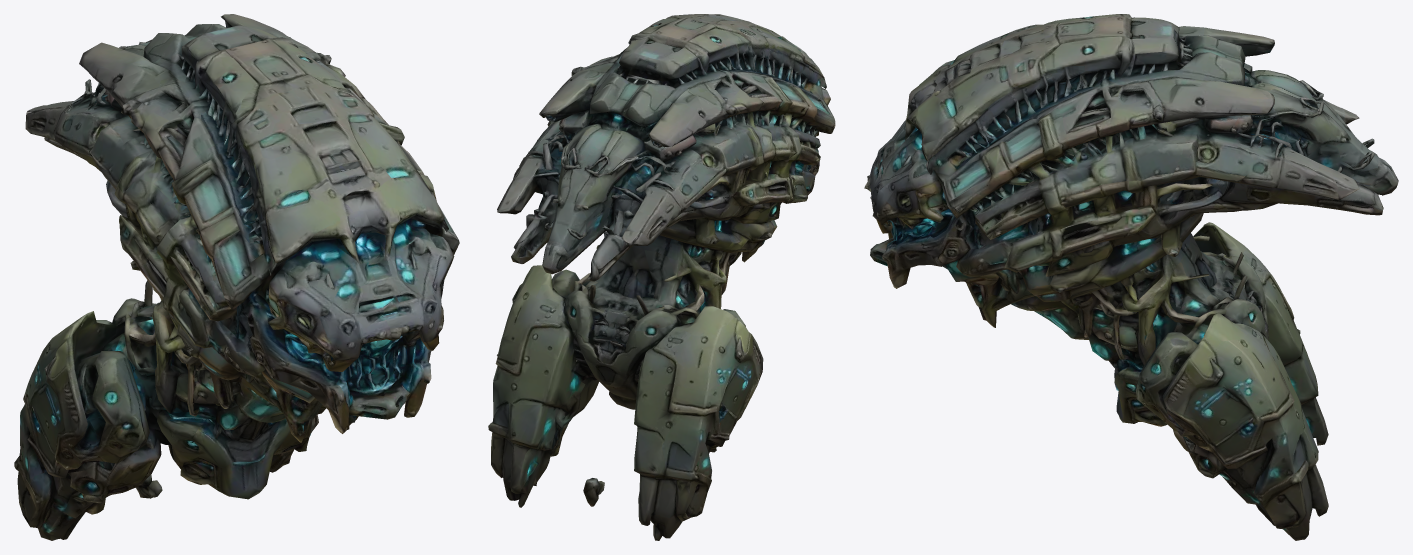
Rendered from enemy_wraith.glb.
3 renders of one model, left to right at view 1: azimuth 30°, elevation 25°; view 2: azimuth 150°, elevation 25°; view 3: azimuth 270°, elevation 25°, orthographic. The views are drawn at different scales.
Parts seen in each view (by area): view 1: tripo_node_50b20c71-5a1c-4049-9996-50485dd0d9e4; view 2: tripo_node_50b20c71-5a1c-4049-9996-50485dd0d9e4; view 3: tripo_node_50b20c71-5a1c-4049-9996-50485dd0d9e4.
Part boxes in pixels (x1=…): tripo_node_50b20c71-5a1c-4049-9996-50485dd0d9e4: x1=14, y1=14, x2=459, y2=540; tripo_node_50b20c71-5a1c-4049-9996-50485dd0d9e4: x1=488, y1=14, x2=835, y2=540; tripo_node_50b20c71-5a1c-4049-9996-50485dd0d9e4: x1=864, y1=14, x2=1398, y2=540.
Size of the model in its own units: 0.5597 by 0.983 by 0.9981.
1 material, 1 textured.
